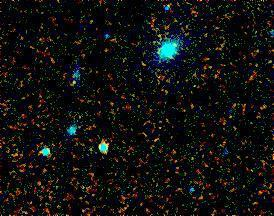star: (53, 69, 83, 99)
